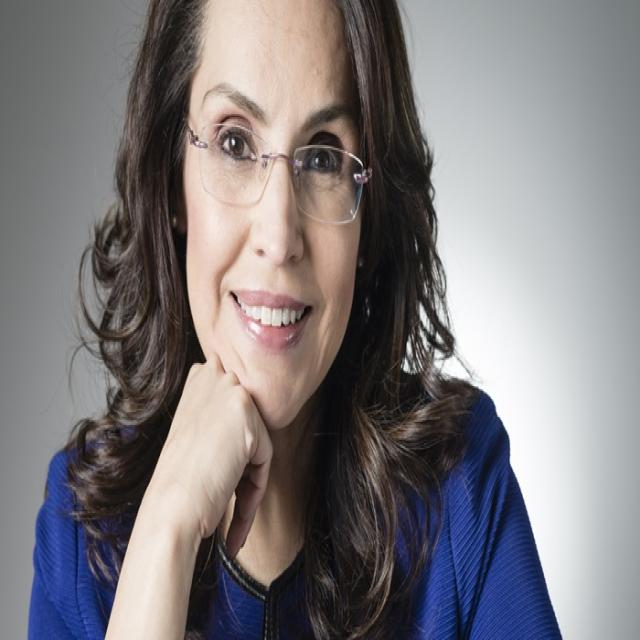mobile_phonerotation: (27, 0, 563, 637)
